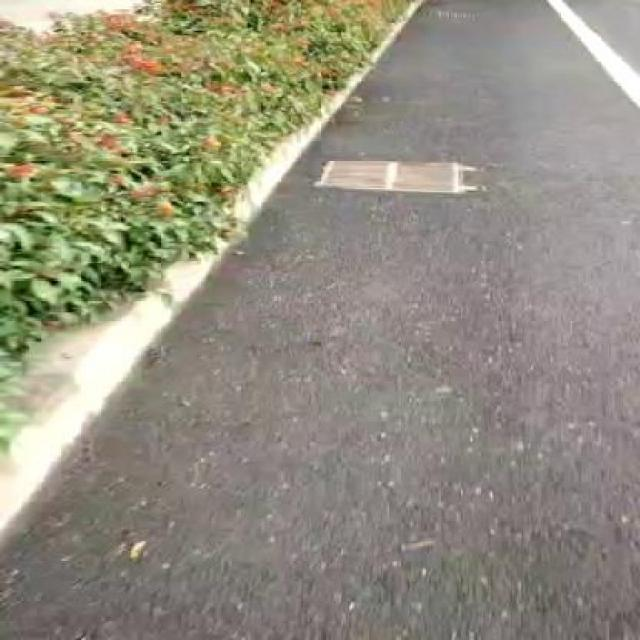Manhole: (307, 152, 475, 202)
